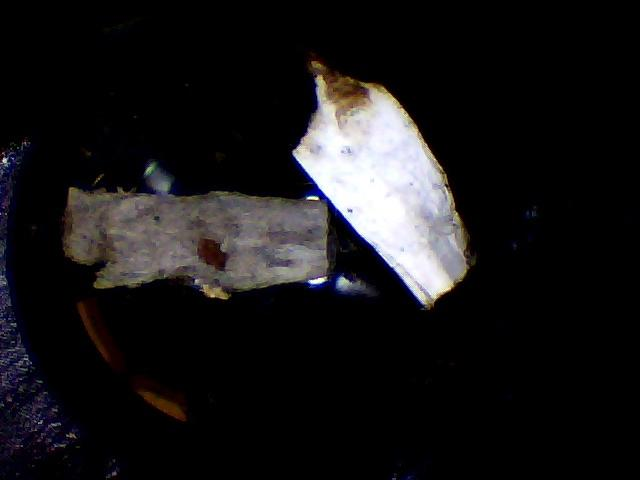megot: (263, 57, 486, 315), (48, 172, 347, 304)
